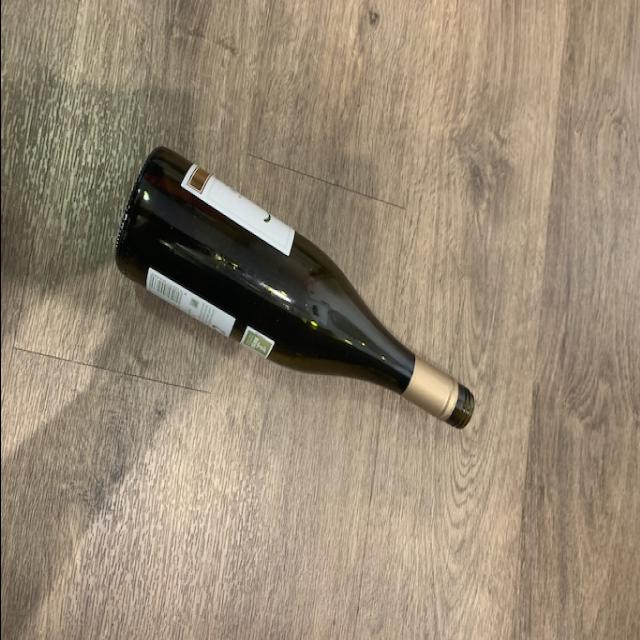litter: (100, 139, 480, 431)
